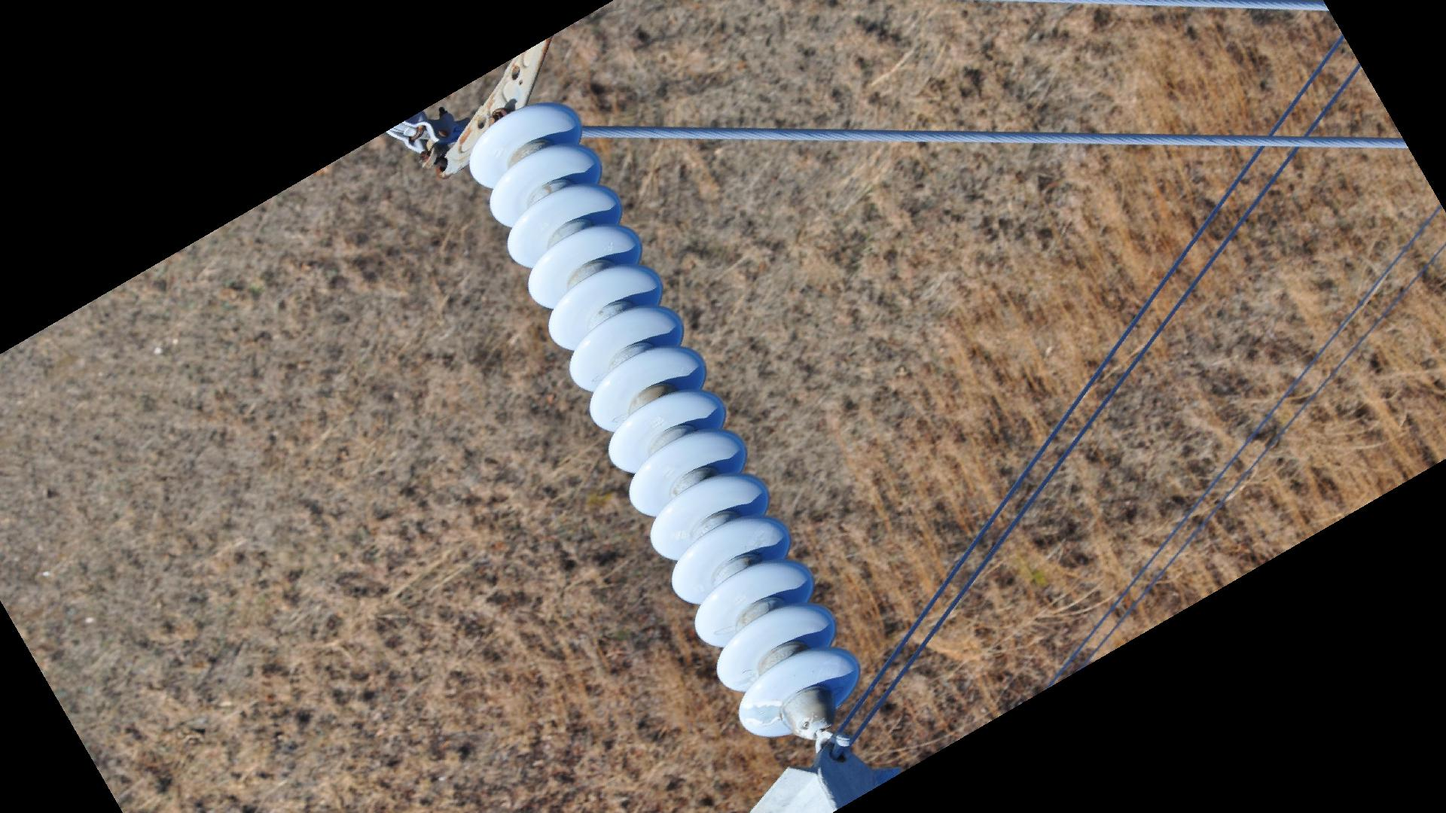insulator: (462, 98, 865, 748)
insulator_flashover: (737, 697, 783, 727)
